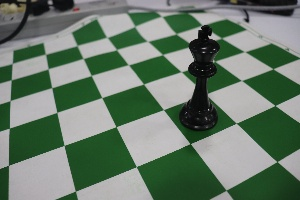black_king: (177, 9, 220, 141)
